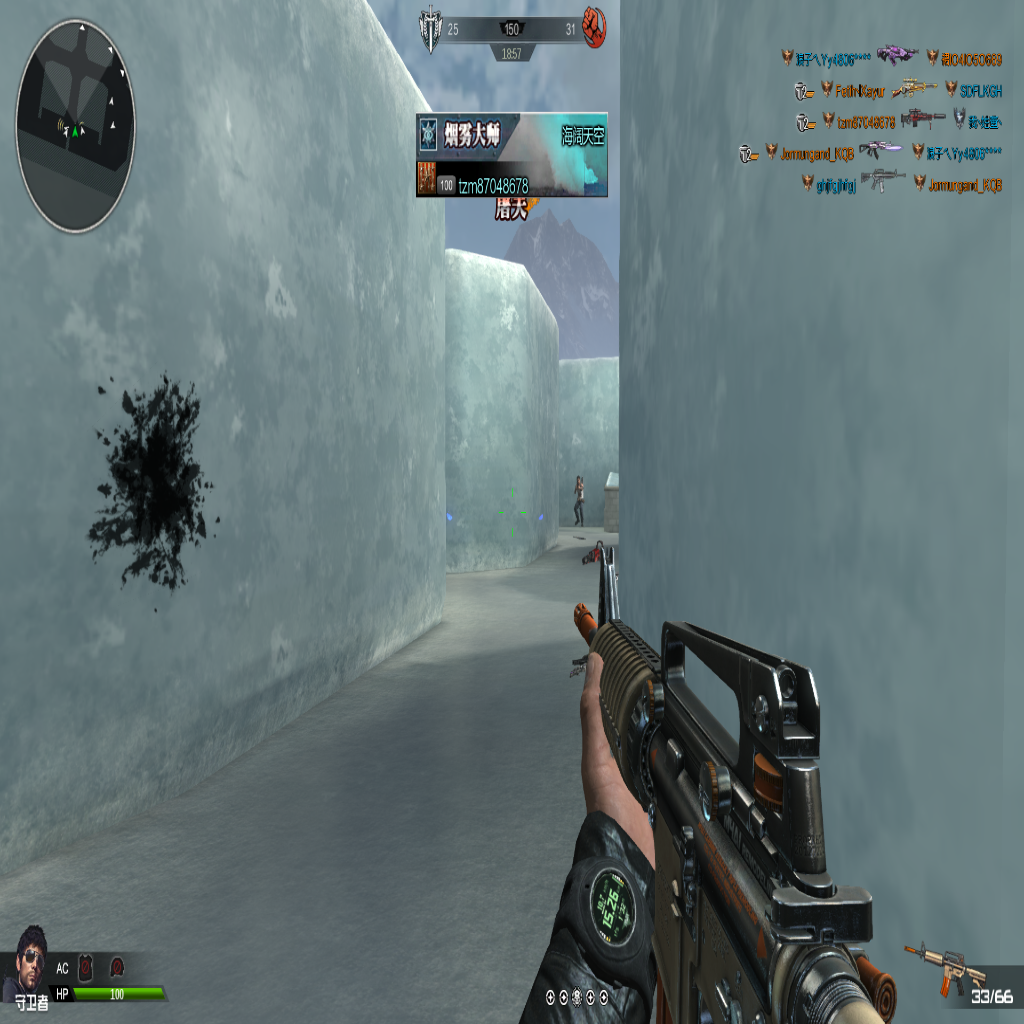tt: (572, 475, 585, 526)
